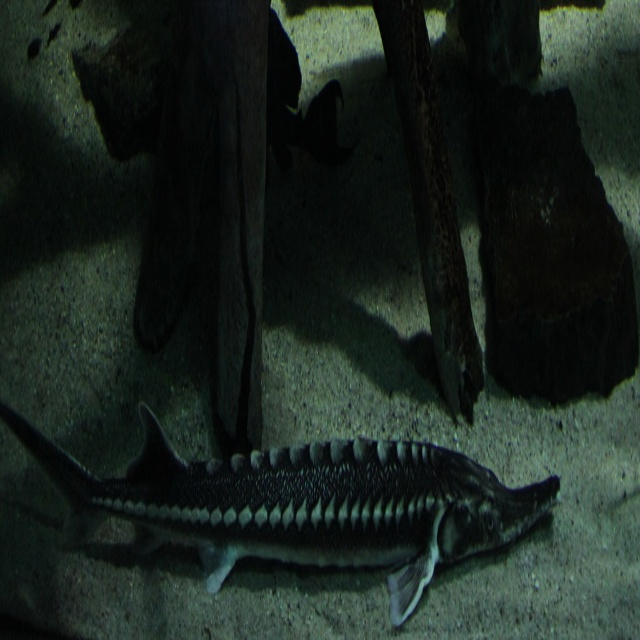Fish: (0, 408, 560, 630)
